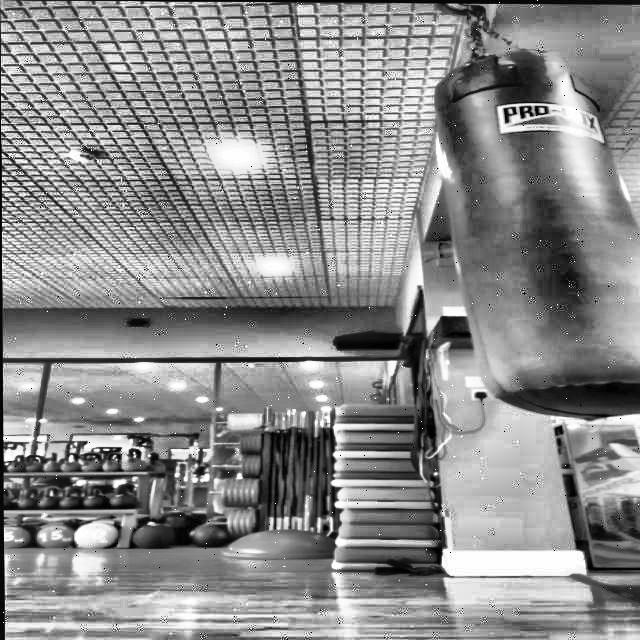boxing-bag: (428, 2, 640, 418)
